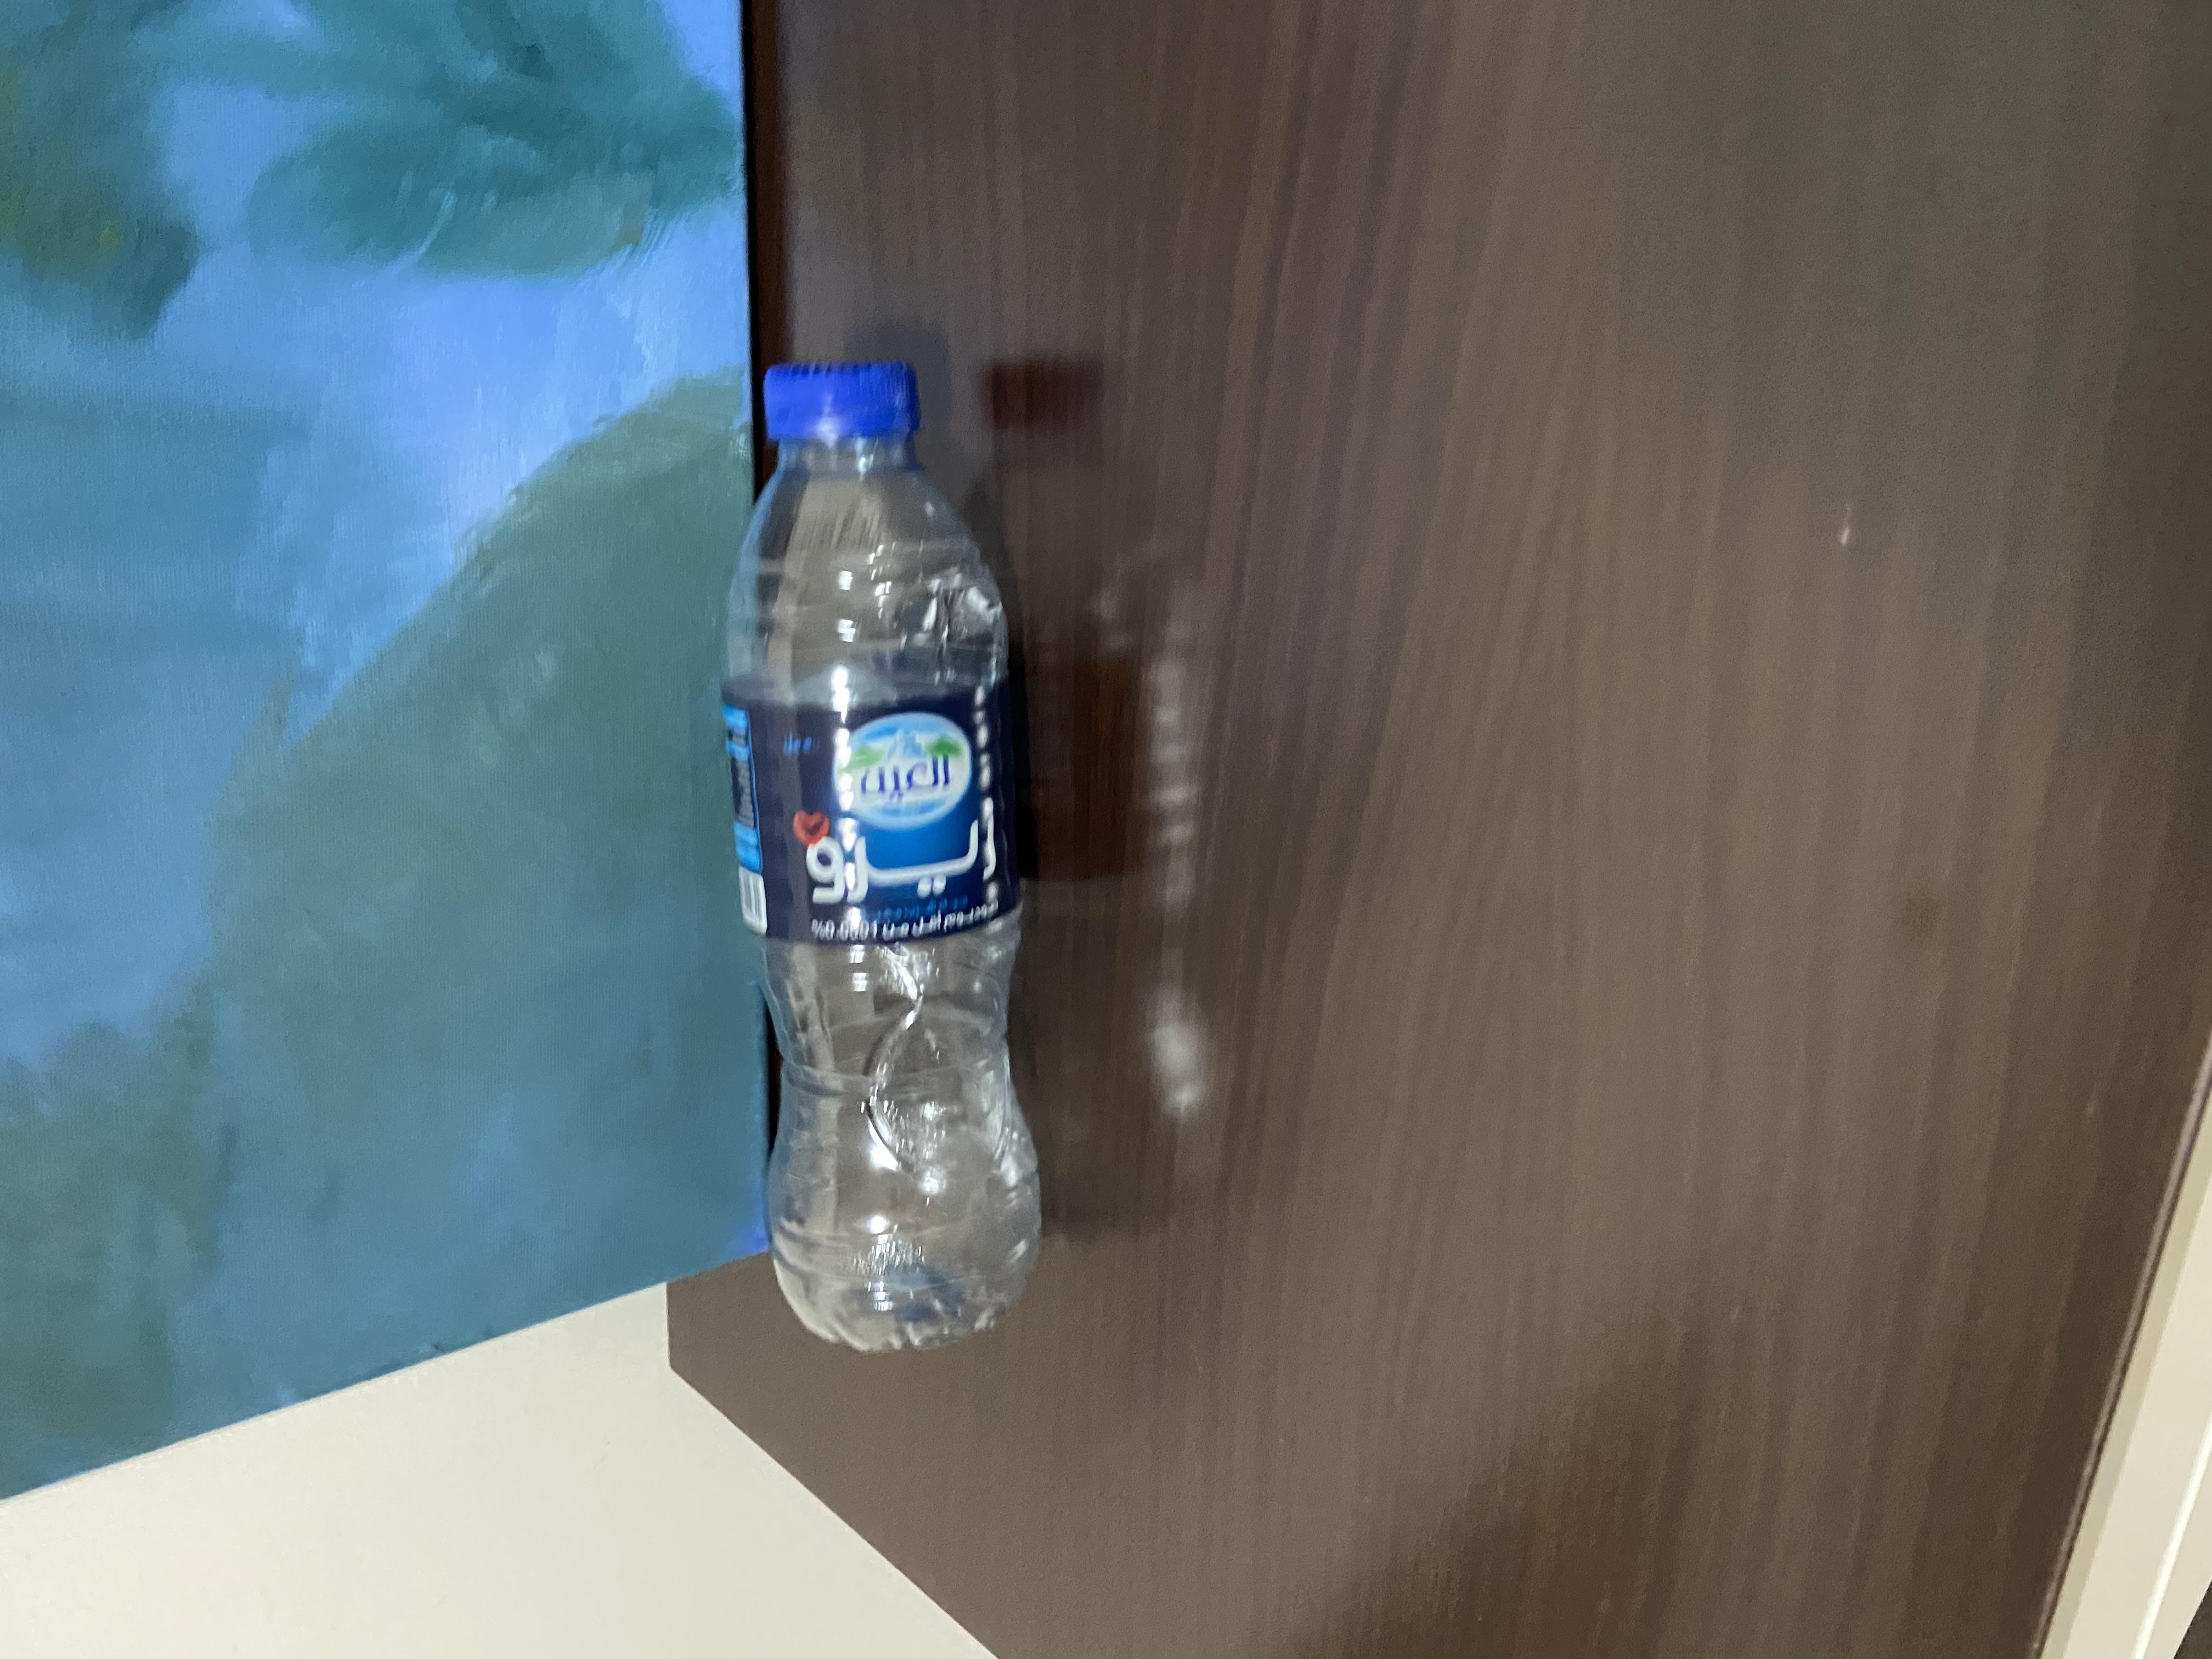bottle: (348, 516, 1810, 838)
